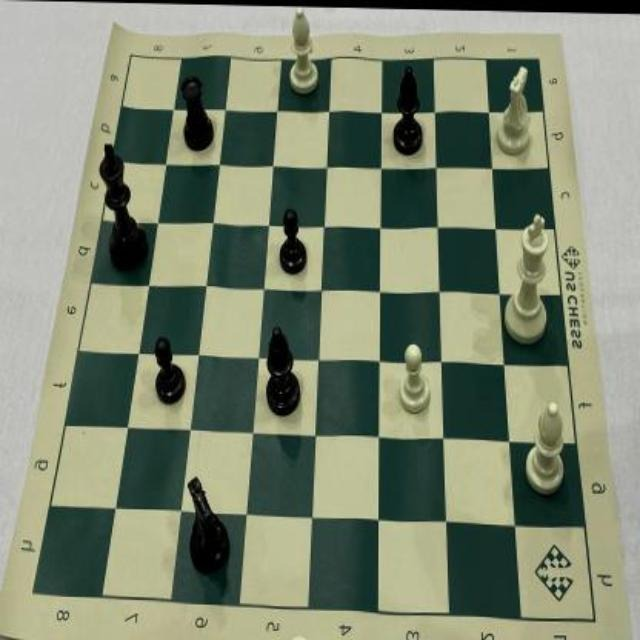black-bishop: (384, 51, 431, 161), (262, 319, 302, 421)
black-king: (93, 135, 154, 275)
black-knight: (177, 471, 233, 583)
black-pawn: (148, 330, 188, 410), (276, 200, 311, 280)
black-rook: (174, 64, 215, 159)
white-bishop: (522, 391, 572, 497), (283, 6, 323, 98)
white-king: (495, 205, 556, 349)
white-knight: (491, 49, 538, 162)
white-pawn: (394, 333, 434, 416)
